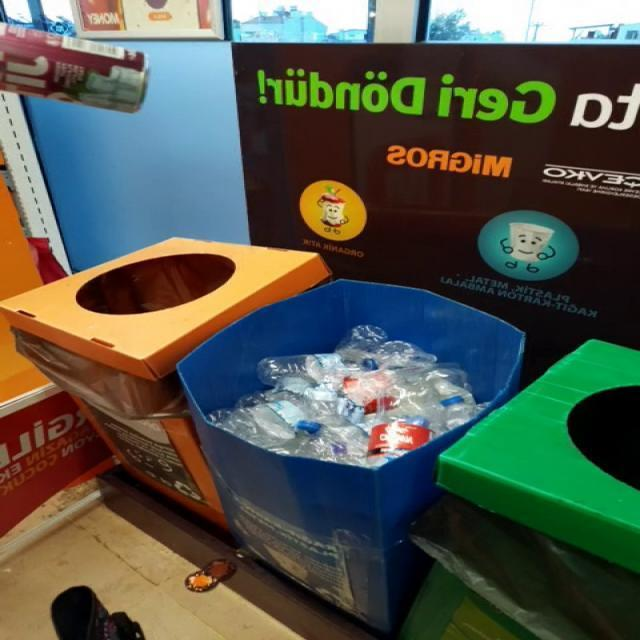Other: (0, 226, 523, 242), (0, 226, 523, 242)
